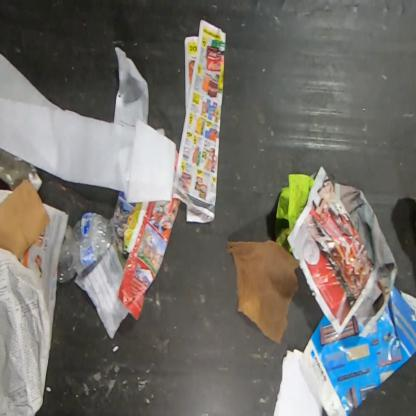cardboard: (0, 179, 51, 261), (0, 147, 43, 193)
rigid_plastic: (56, 212, 120, 284)
